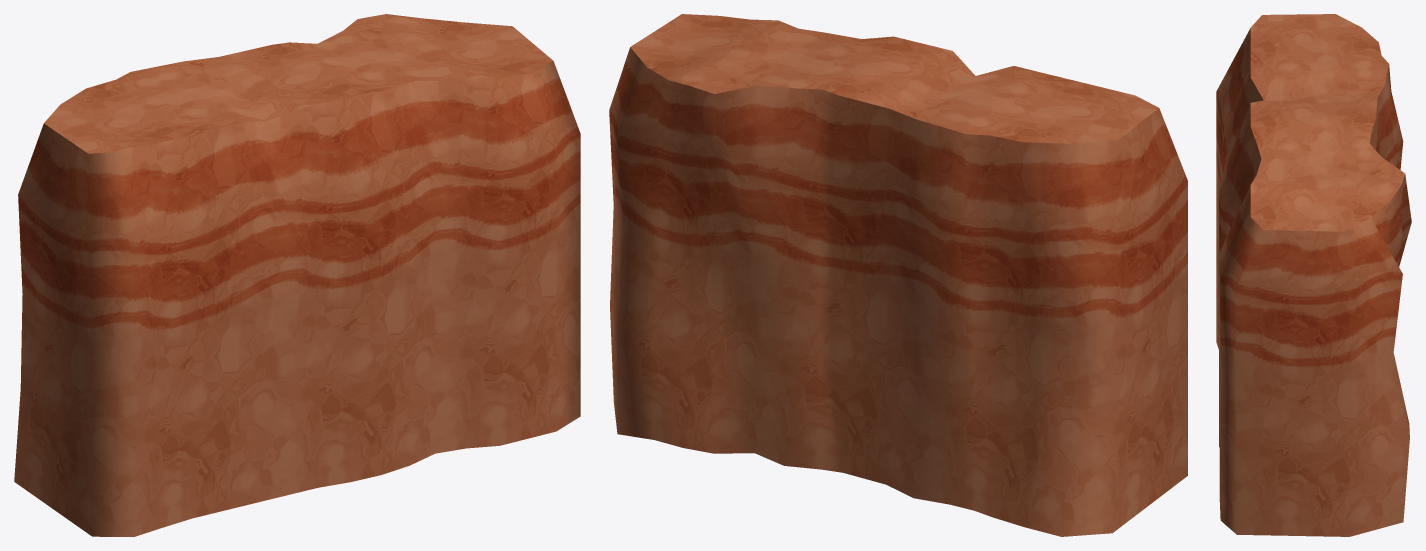
The model's file is Tallcliff01.fbx.
3 renders of one model, left to right at view 1: azimuth 30°, elevation 25°; view 2: azimuth 150°, elevation 25°; view 3: azimuth 270°, elevation 25°, orthographic. The views are drawn at different scales.
Visible parts, largest first — view 1: Cliff Rocky; view 2: Cliff Rocky; view 3: Cliff Rocky.
Boxes of the visible parts, x1=… form: Cliff Rocky: x1=14, y1=14, x2=580, y2=536; Cliff Rocky: x1=609, y1=14, x2=1187, y2=536; Cliff Rocky: x1=1216, y1=14, x2=1411, y2=536.
Bounding box in the file's own units: 4.5 × 3.19 × 1.78.
